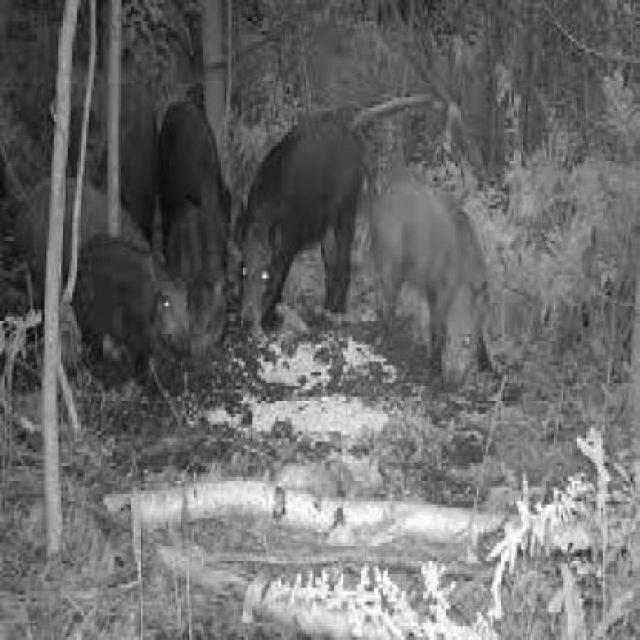wildboar: (373, 158, 502, 394), (236, 108, 369, 334), (149, 94, 253, 334), (70, 230, 196, 381)
